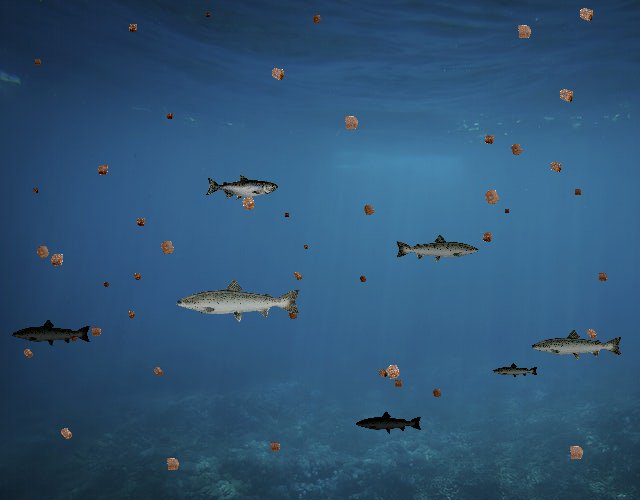Fish: (174, 277, 303, 323), (530, 328, 624, 362), (394, 233, 480, 264), (11, 318, 92, 348), (206, 174, 279, 201), (355, 410, 423, 434), (493, 362, 540, 379)
Pellet: (234, 189, 262, 217), (264, 61, 291, 88), (54, 421, 79, 446), (29, 184, 41, 196)
